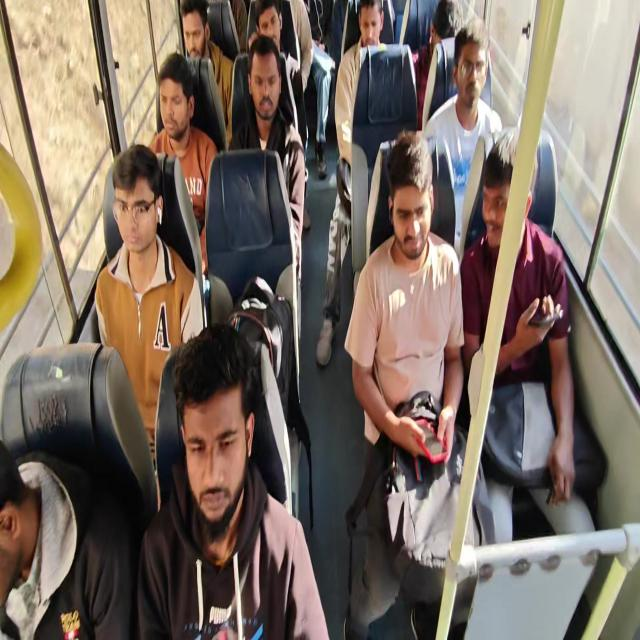person: (164, 314, 267, 543), (385, 133, 455, 281), (0, 432, 54, 614), (108, 146, 176, 260), (482, 127, 536, 244), (150, 48, 210, 141), (450, 24, 488, 121), (243, 42, 283, 117), (429, 0, 464, 48), (356, 0, 385, 56), (177, 4, 207, 58), (248, 0, 287, 39)
